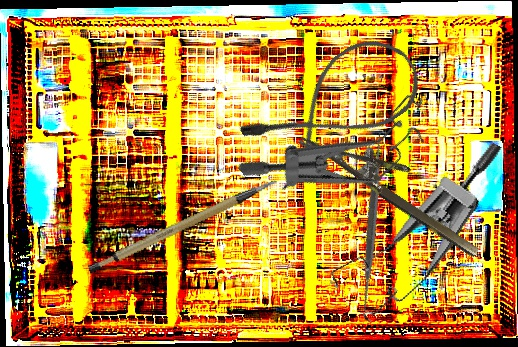Cannula: (235, 22, 433, 195)
Needle Holder: (297, 108, 496, 260)
Scalpel Handle: (79, 178, 288, 277)
Spatula Surgical: (276, 126, 469, 318)
Speculum: (318, 104, 505, 343), (234, 42, 447, 249)
